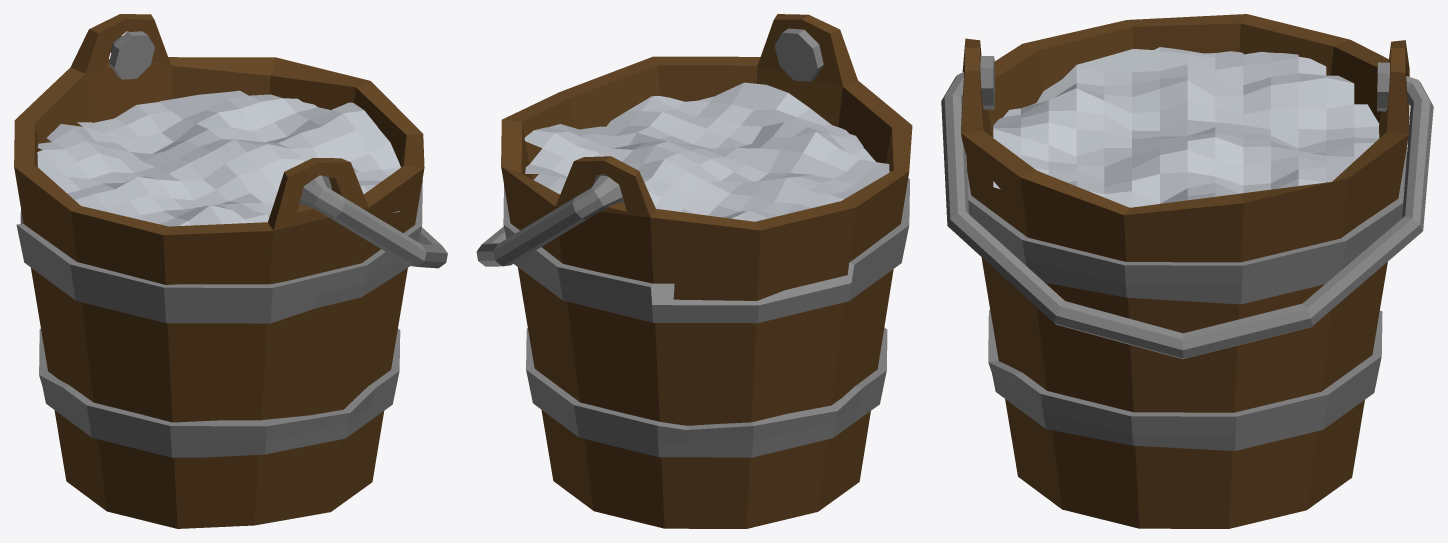
Rendered from Bucket_water (1).fbx.
3 views of the same model, side by side, from view 1: azimuth 30°, elevation 25°; view 2: azimuth 150°, elevation 25°; view 3: azimuth 270°, elevation 25° (orthographic). The views are drawn at different scales.
Parts seen in each view (by area): view 1: Cylinder, Plane; view 2: Cylinder, Plane; view 3: Cylinder, Plane.
Part boxes in pixels (box(x1,y1,x2,y2)): Cylinder: box(14, 14, 447, 528); Plane: box(37, 90, 400, 226); Cylinder: box(476, 14, 912, 528); Plane: box(524, 82, 889, 221); Cylinder: box(941, 14, 1433, 528); Plane: box(993, 47, 1379, 207).
Size of the model in its own units: 243 by 235 by 255.
